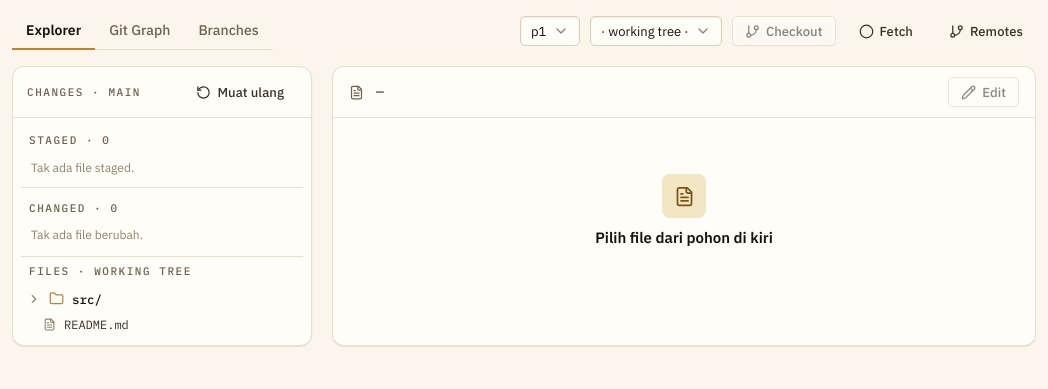
IdeScreen Explorer › mengelompokkan file per folder, folder collapse default
Check: the text "src/" is shown, box left=72, top=290, right=102, bottom=306
Check: the text "a.ts" is not shown
# buka folder → a.ts muncul
Click the button "src/": {"x": 34, "y": 298} left=21, top=286, right=303, bottom=312
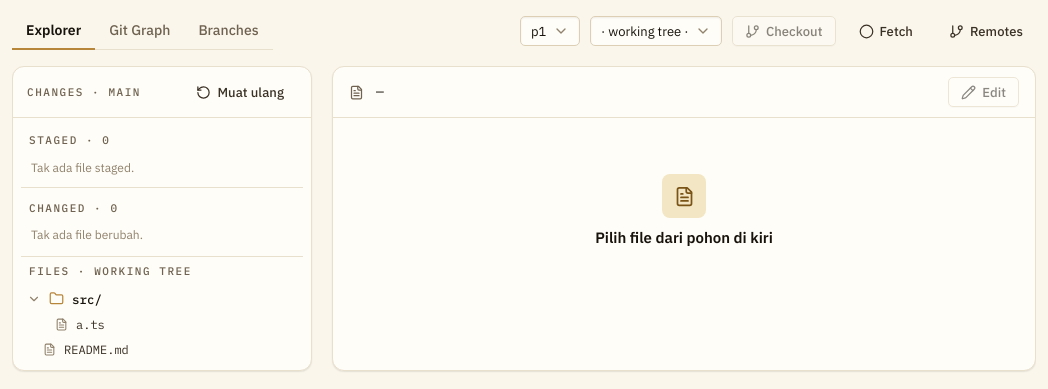
Check: the text "a.ts" is shown, box left=76, top=316, right=105, bottom=332
